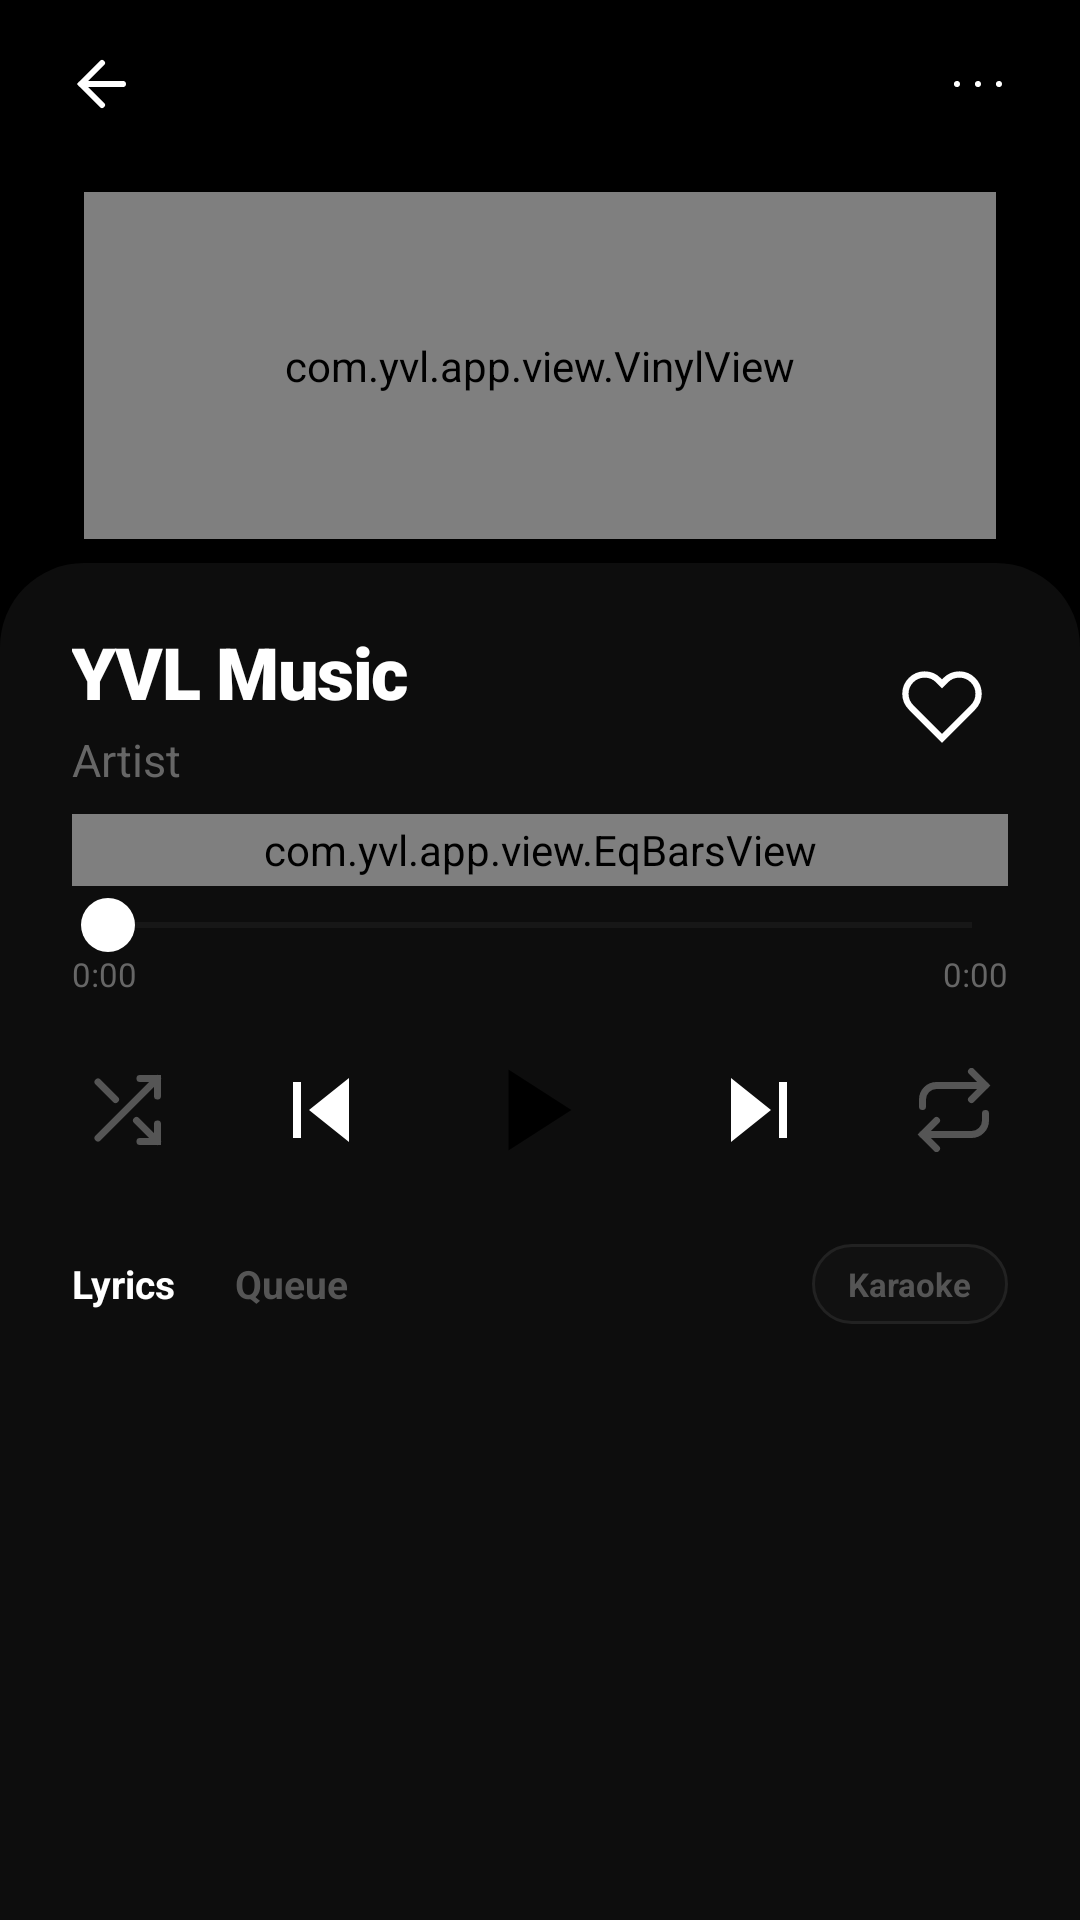

Screen size 1080px×1920px. Icon name, then its box in pixels as BBox(x1, y1, x2, y2):
back: BBox(77, 60, 126, 108)
heart: BBox(902, 671, 982, 743)
next: BBox(731, 1078, 787, 1142)
prev: BBox(293, 1078, 349, 1142)
repeat: BBox(918, 1068, 990, 1152)
shuffle: BBox(94, 1075, 161, 1145)
